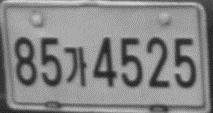2: (145, 36, 170, 88)
4: (92, 36, 117, 87)
5: (120, 37, 142, 88), (174, 37, 196, 88), (40, 37, 62, 86)
8: (13, 36, 37, 85)
가: (63, 46, 87, 87)
